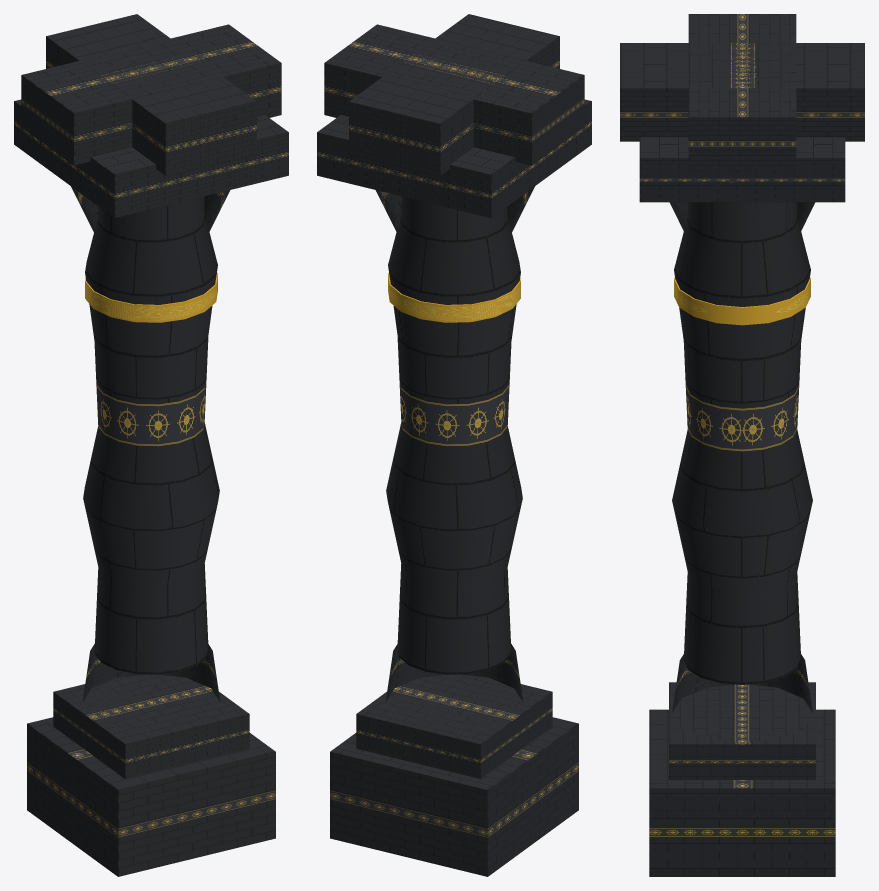
Rendered from temple_column.glb.
The picture shows the model from 3 angles, left to right: view 1: azimuth 30°, elevation 25°; view 2: azimuth 150°, elevation 25°; view 3: azimuth 270°, elevation 25°; orthographic projection. The views are drawn at different scales.
Parts seen in each view (by area): view 1: Node_TempleColumn; view 2: Node_TempleColumn; view 3: Node_TempleColumn.
Boxes of the visible parts, box(x1,y1,x2,y2) form: Node_TempleColumn: box(14, 14, 288, 876); Node_TempleColumn: box(317, 14, 591, 876); Node_TempleColumn: box(620, 14, 864, 876).
Size of the model in its own units: 1.25 by 4.35 by 1.25.
Materials: 2 (2 with a texture image).
